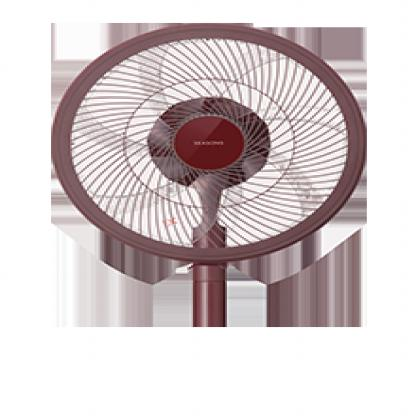fan: (50, 24, 364, 326)
